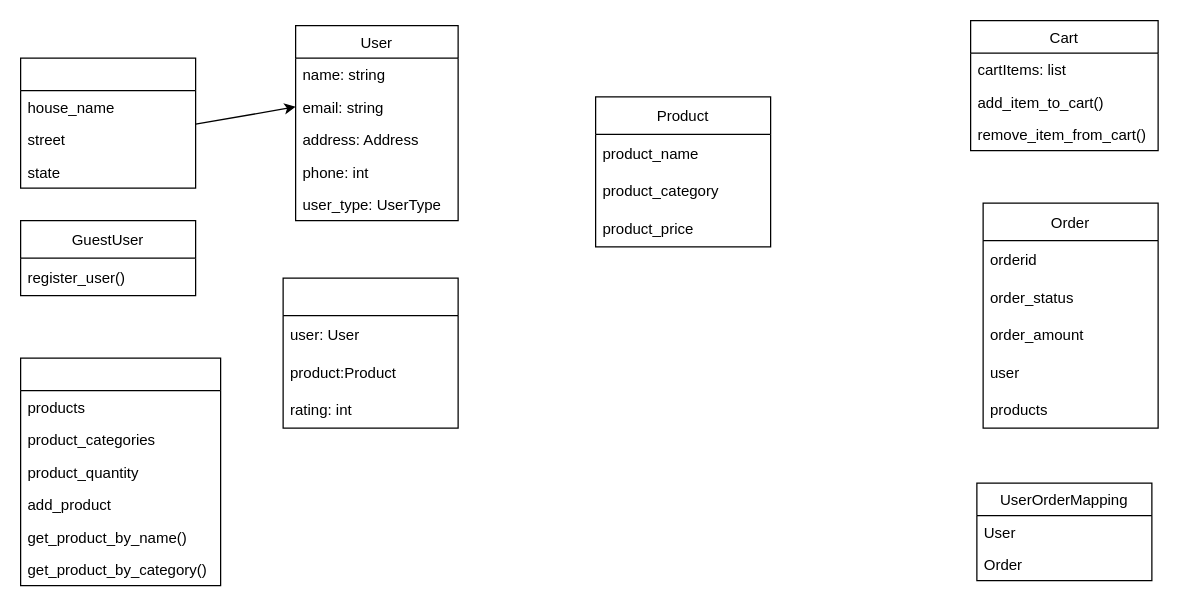
Some shapes in this 1179 by 606 pixel diagram are drawn without their labels. The shapes that lost their labels are listed below. From the top down, each one's box as (x1, y1, x2, y2) in pixels, then its label:
(19, 57, 196, 188): Address
(282, 277, 458, 428): ProductReview
(19, 357, 221, 586): ProductCatalog(singleton)
